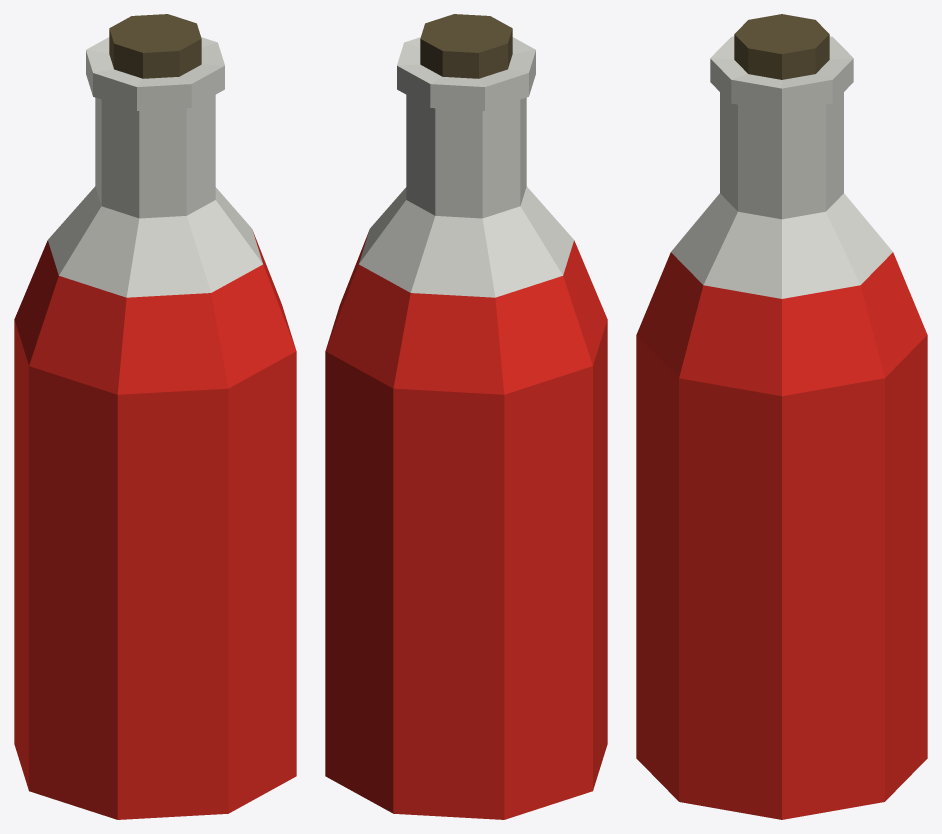
File: redbottle.fbx
3 renders of one model, left to right at view 1: azimuth 30°, elevation 25°; view 2: azimuth 150°, elevation 25°; view 3: azimuth 270°, elevation 25°, orthographic.
Parts seen in each view (by area): view 1: Cylinder; view 2: Cylinder; view 3: Cylinder.
Boxes of the visible parts, x1=… form: Cylinder: x1=14, y1=14, x2=296, y2=819; Cylinder: x1=325, y1=14, x2=607, y2=819; Cylinder: x1=636, y1=14, x2=927, y2=819.
Bounding box in the file's own units: 200 × 549 × 200.
